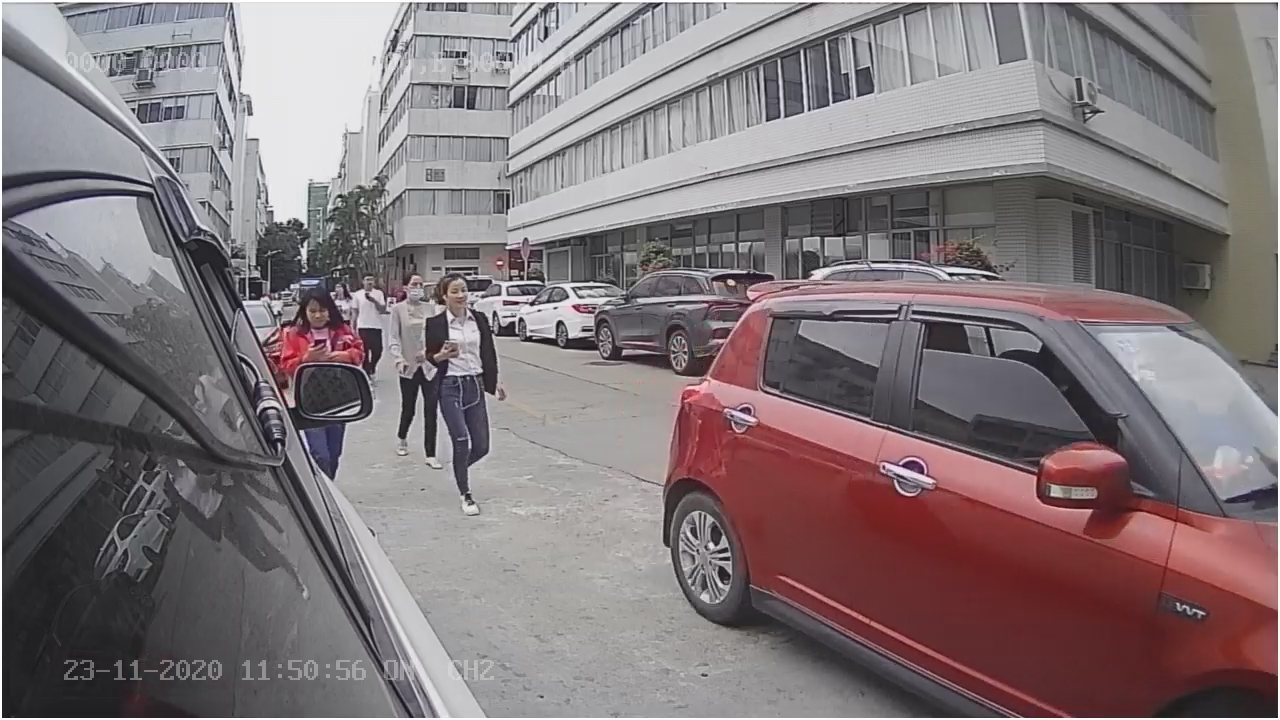person: (423, 275, 506, 514)
